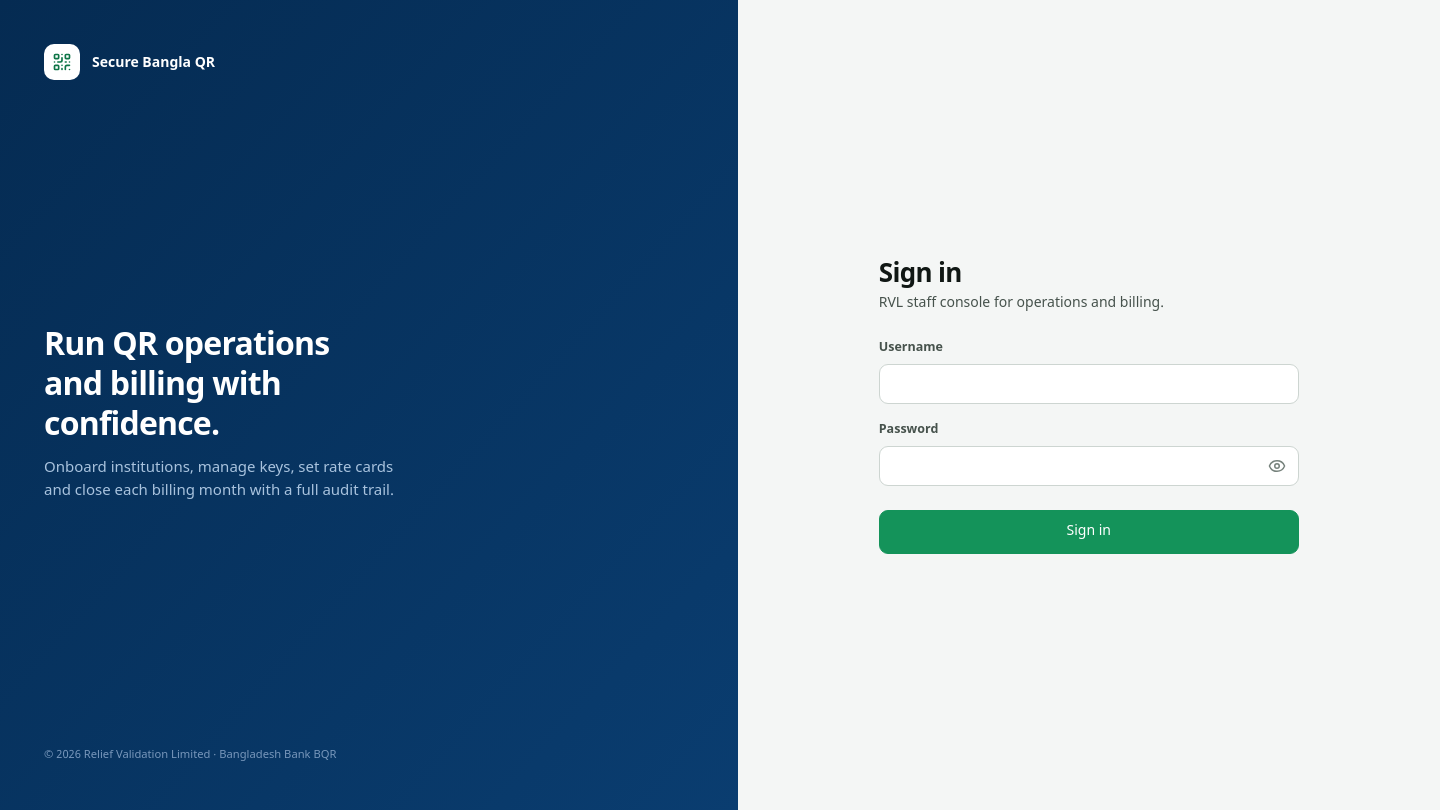
Test case: App › validates empty credentials
Click the button "Sign in": [1089, 532] box [879,510,1299,554]
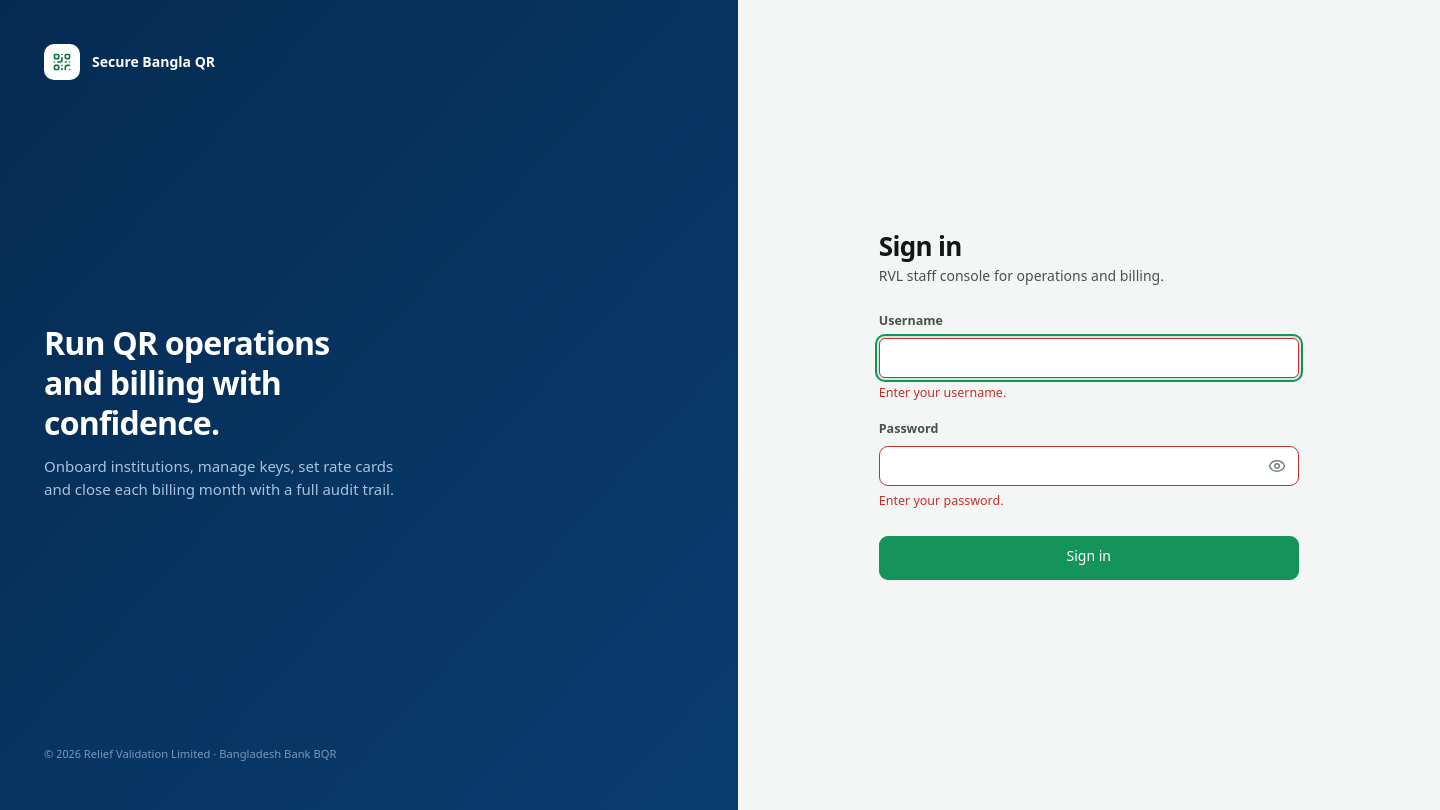
Now the text "Enter your username." is shown, box [879,386,1006,402]
Now the text "Enter your password." is shown, box [879,494,1004,510]
